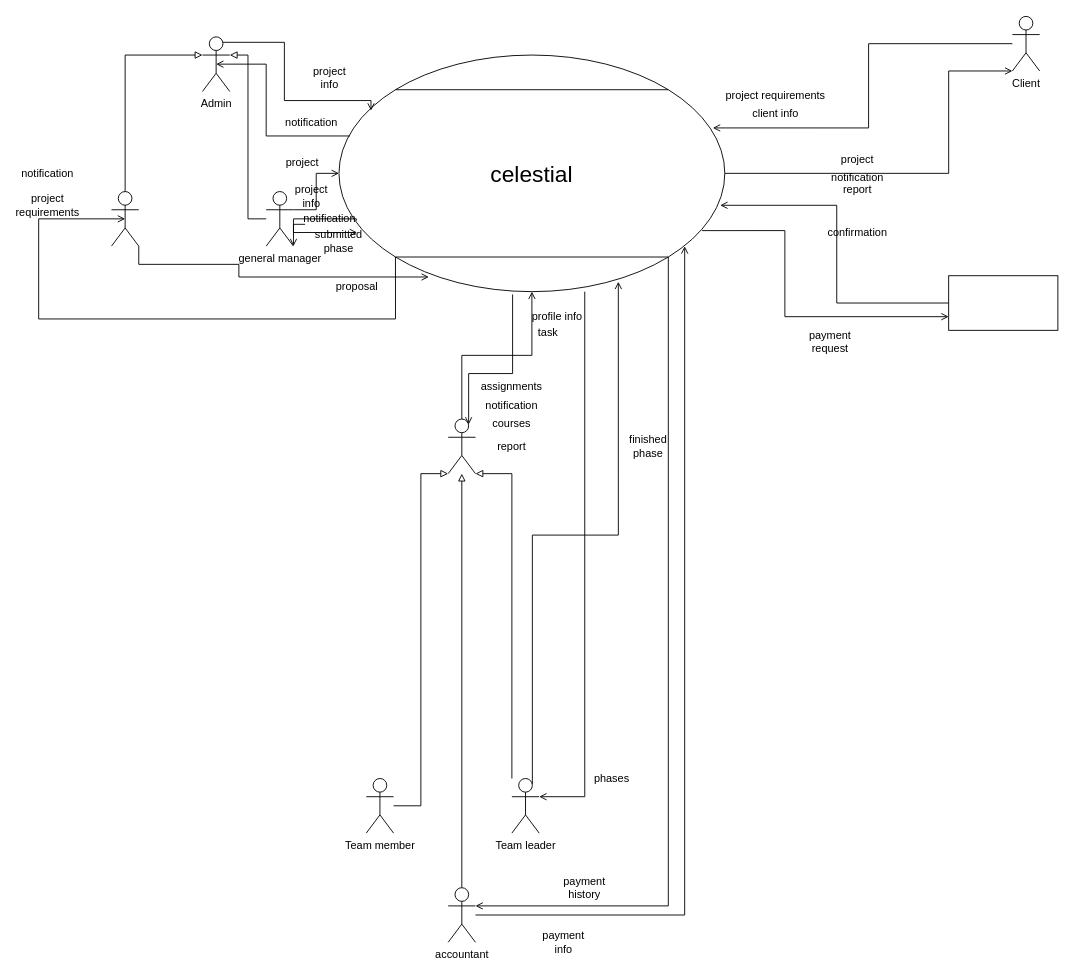
This 1074x976 diagram has some shape labels left out. The centre of each missing label's shape, as x and y in pixels:
"Bank repo" belongs at point 1003,302.
"Employee" belongs at point 461,446.
"proposal manager" belongs at point 125,218.
